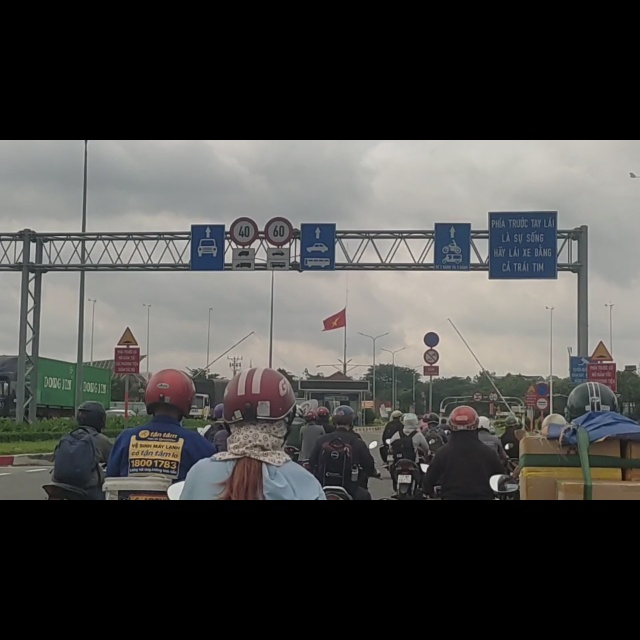bien_cam: (229, 136, 259, 190), (265, 137, 293, 188), (569, 383, 589, 433), (591, 357, 615, 393), (117, 332, 138, 365), (424, 341, 439, 369), (424, 372, 439, 398), (535, 431, 549, 456), (536, 457, 549, 482), (488, 447, 499, 466), (473, 446, 483, 465), (527, 434, 536, 450)
